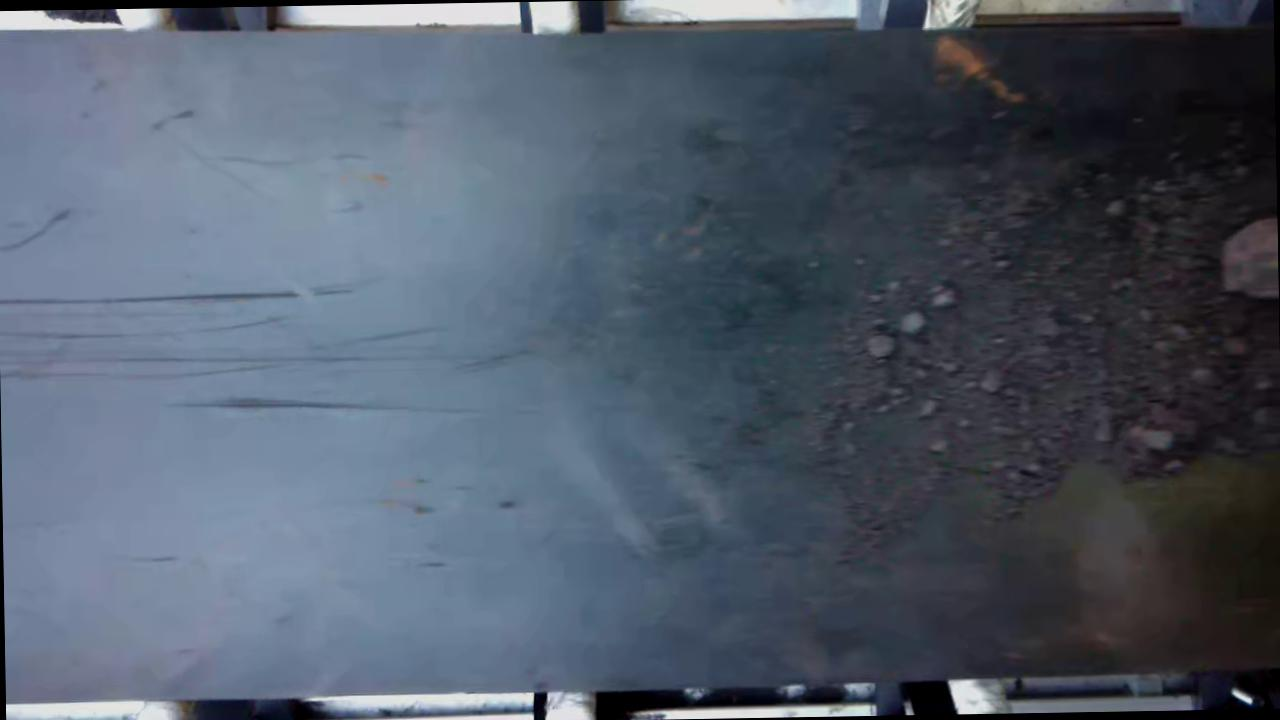conveyor: (9, 29, 1280, 692)
